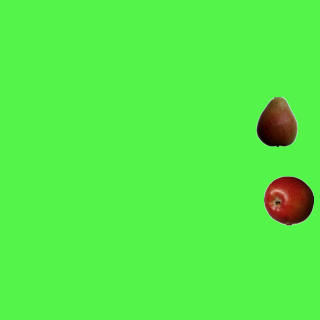Apple Braeburn: (263, 175, 313, 225)
Pear Forelle: (251, 96, 301, 146)
